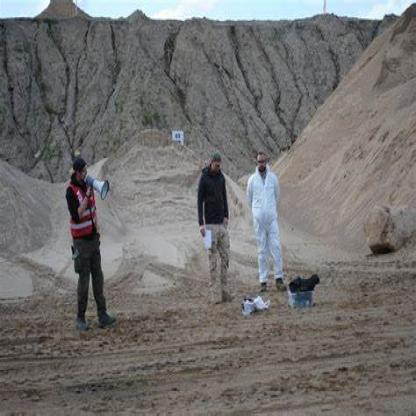person: (68, 151, 120, 337), (196, 143, 236, 316), (248, 141, 289, 303)
